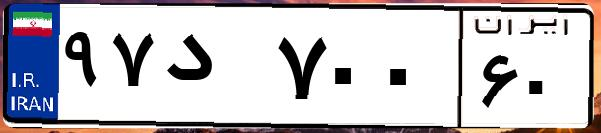0: (385, 28, 445, 110), (330, 28, 385, 110), (525, 38, 570, 115)
6: (475, 38, 525, 113)
7: (270, 28, 330, 110), (110, 28, 158, 98)
9: (57, 26, 110, 100)
د: (158, 20, 270, 120)
